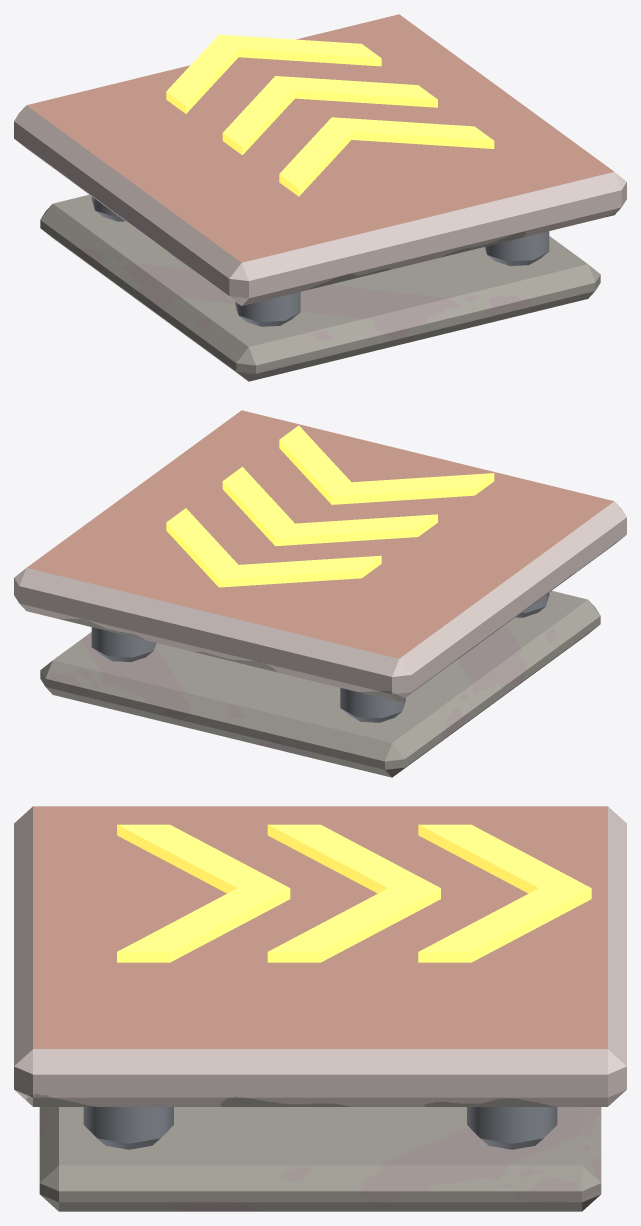
Rendered from R4D_KnockbackTrap_LOD1.glb.
3 renders of one model, top to bottom at view 1: azimuth 30°, elevation 25°; view 2: azimuth 150°, elevation 25°; view 3: azimuth 270°, elevation 25°, orthographic. The views are drawn at different scales.
Parts seen in each view (by area): view 1: R4D_KnockbackTrap_LOD1; view 2: R4D_KnockbackTrap_LOD1; view 3: R4D_KnockbackTrap_LOD1.
Part boxes in pixels (x1,y1,x2,y2): R4D_KnockbackTrap_LOD1: [14, 14, 626, 381]; R4D_KnockbackTrap_LOD1: [14, 410, 626, 777]; R4D_KnockbackTrap_LOD1: [14, 806, 626, 1211].
Size of the model in its own units: 0.48 by 0.1841 by 0.48.
Materials: 5 (4 with a texture image).
